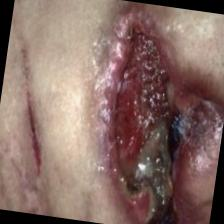orthopaedic-wounds: (74, 3, 224, 224)
